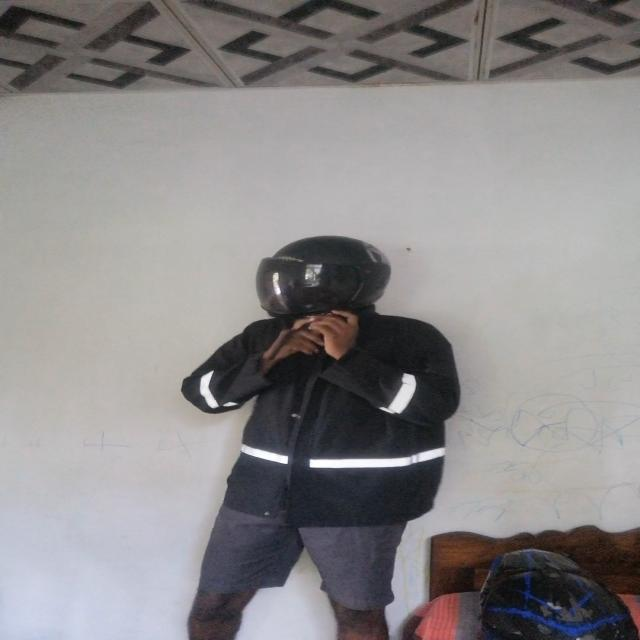Helmet_Wearer: (254, 233, 398, 330)
Jacket_Wearer: (188, 310, 470, 534)
Person: (182, 229, 477, 640)
